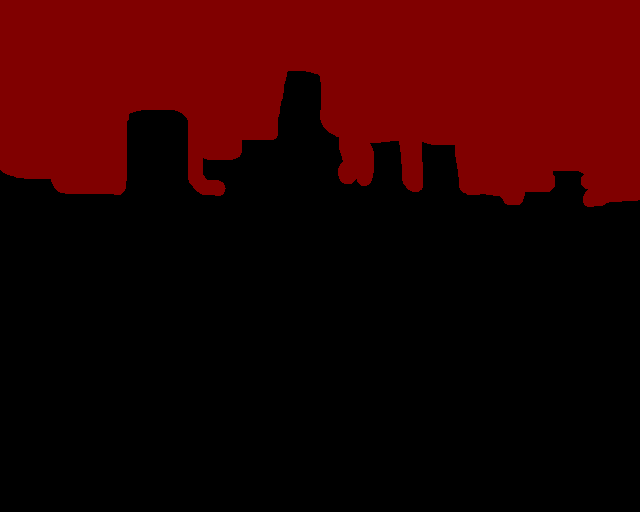Sky: (1, 1, 639, 207)
